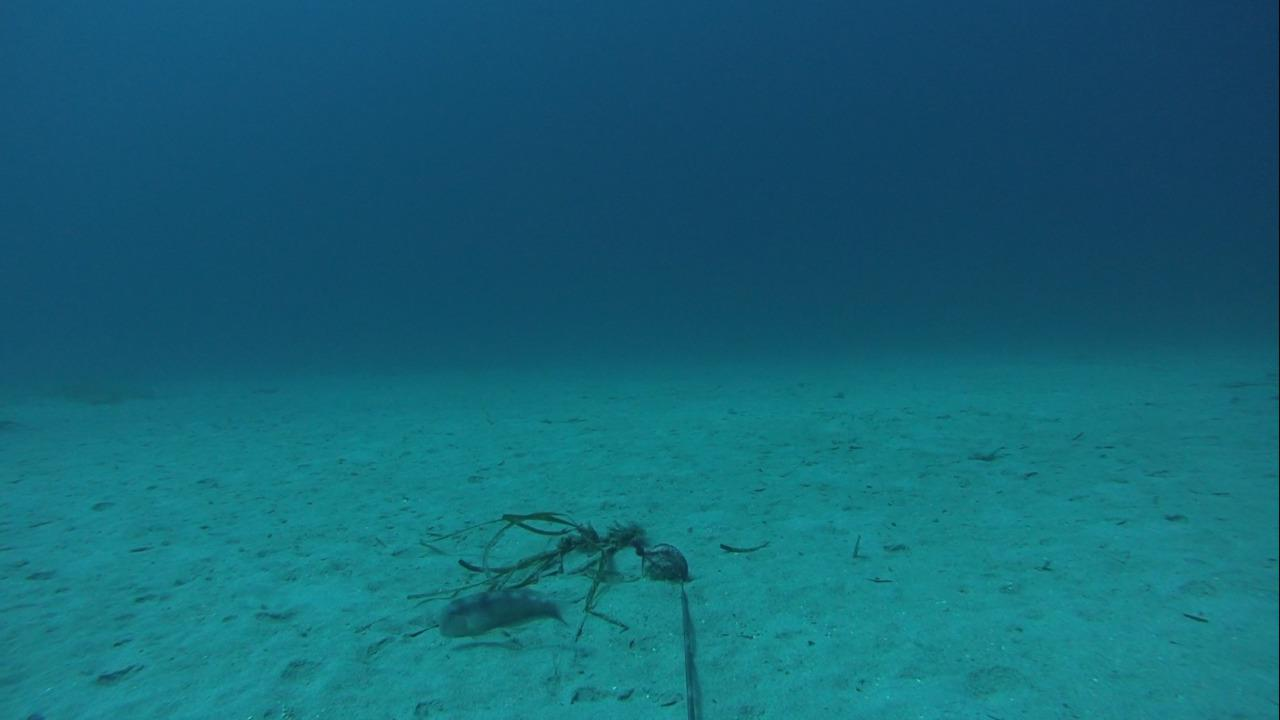raor: (437, 585, 564, 637)
